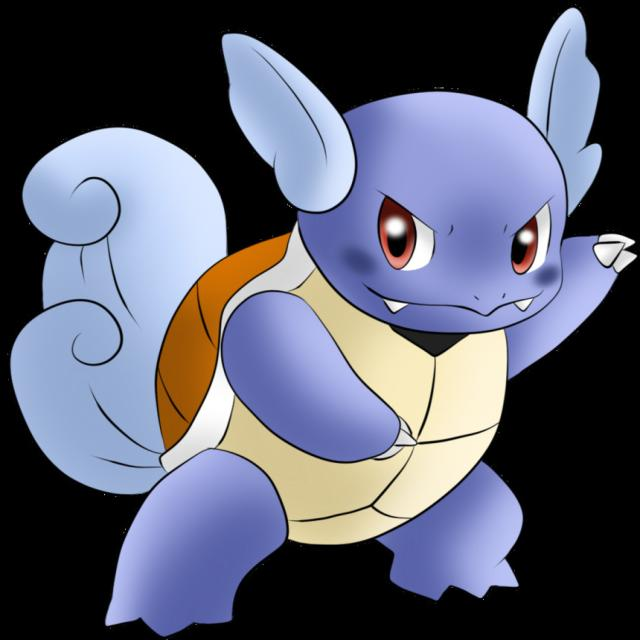Wartortle: (107, 31, 603, 582)
